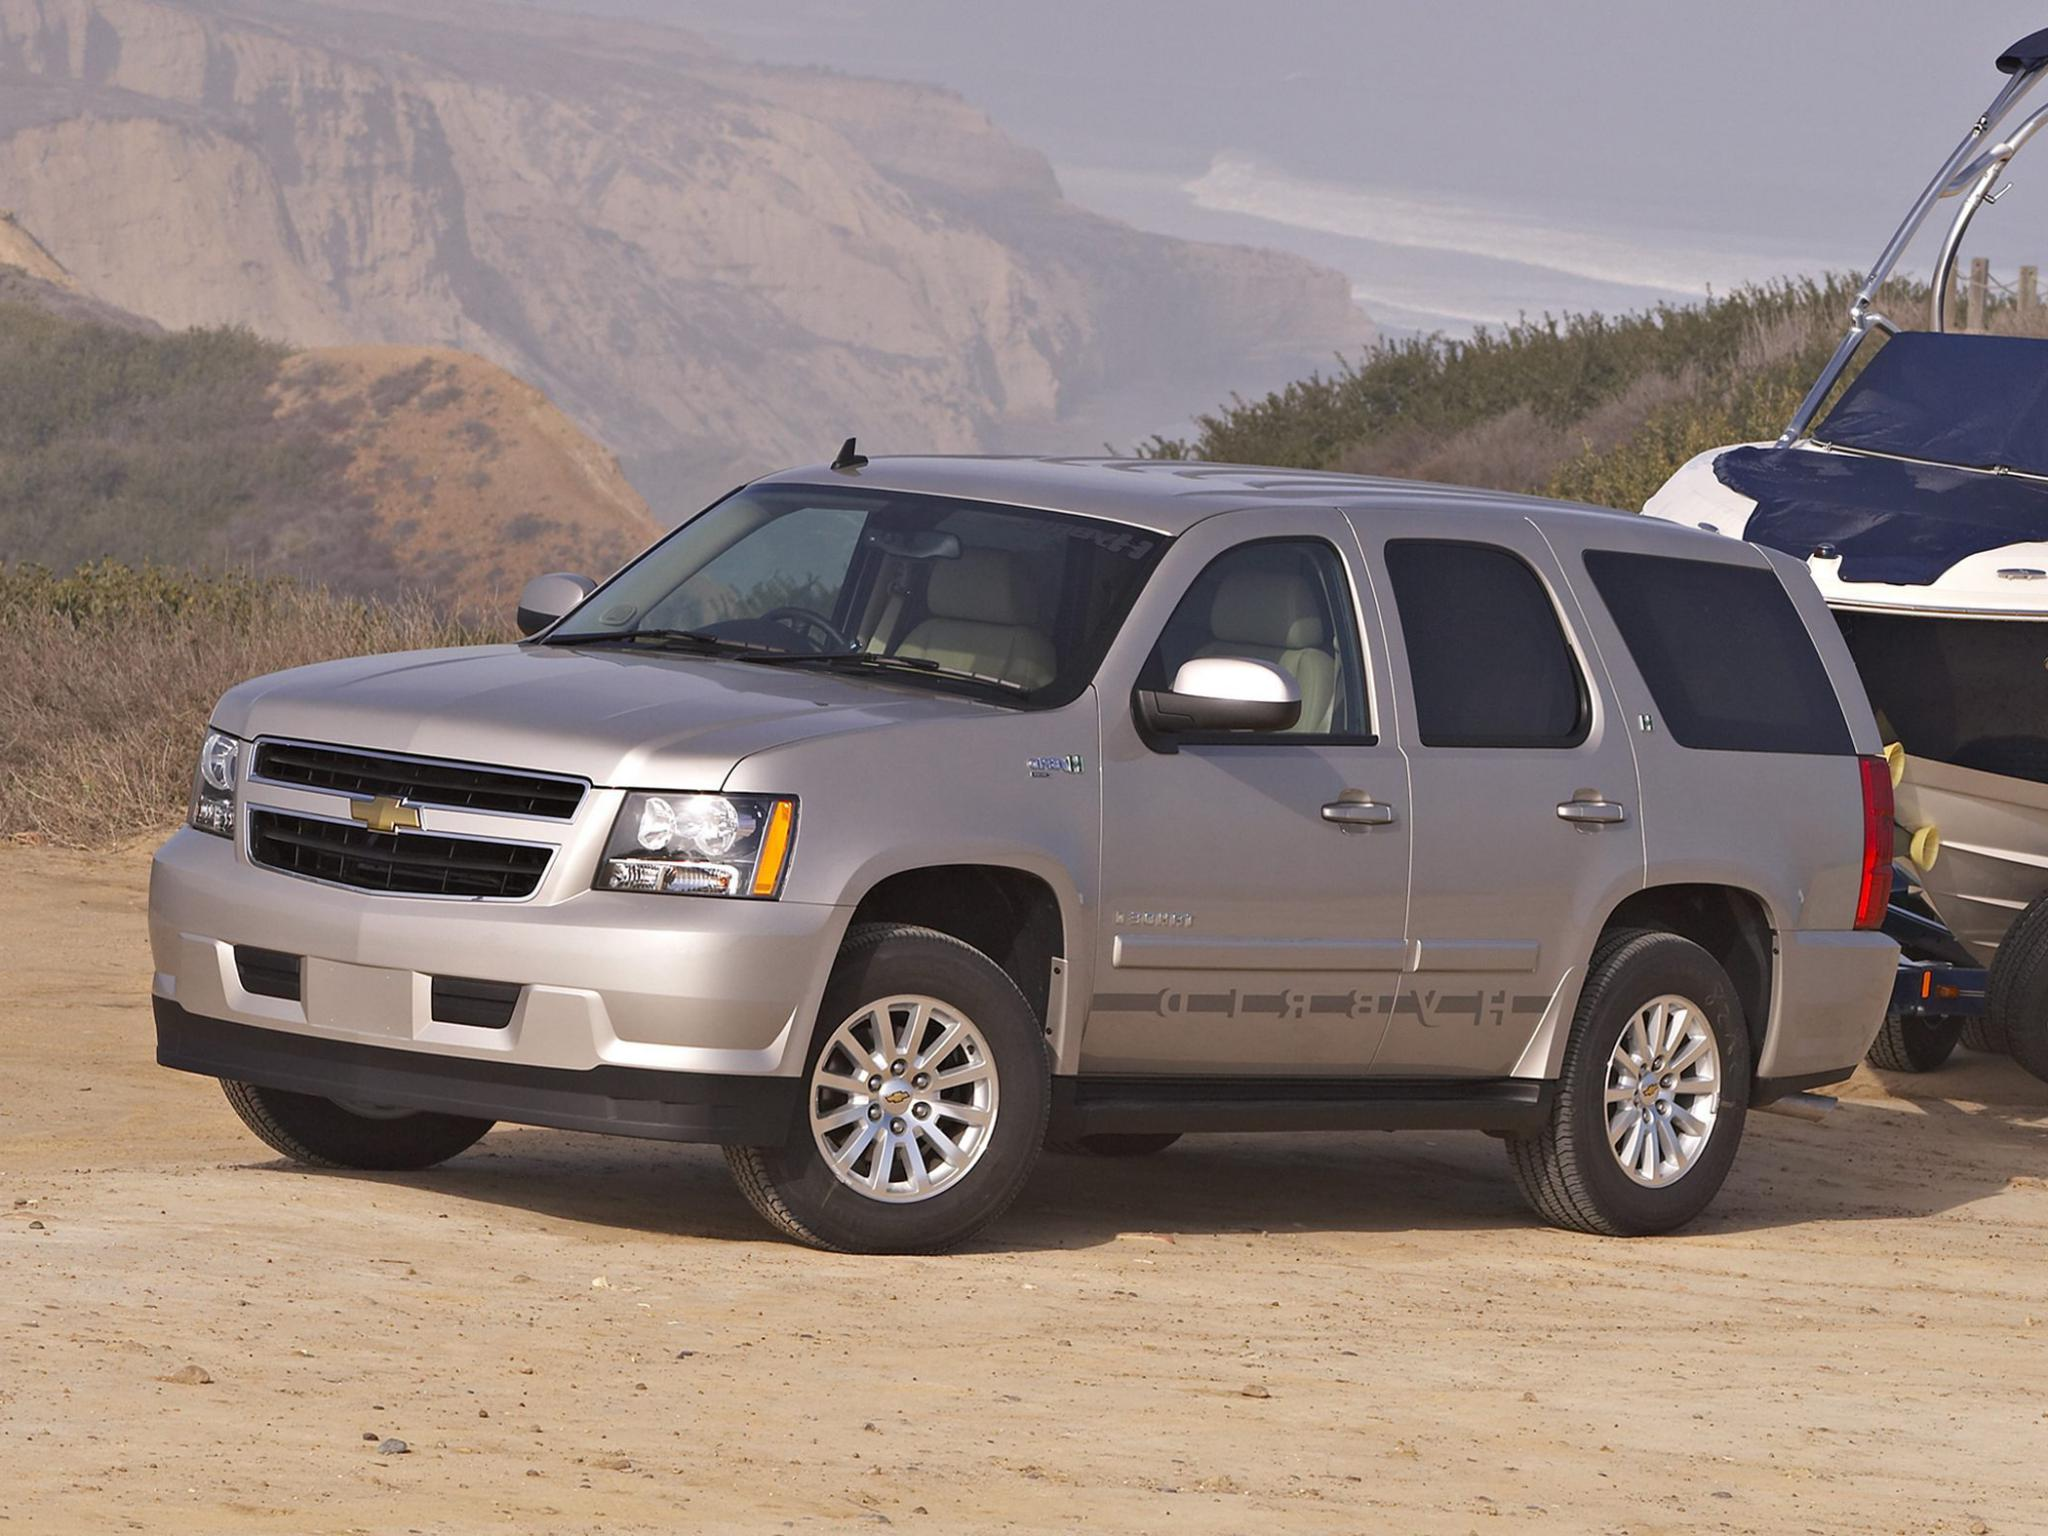Car: (81, 426, 1930, 1292)
